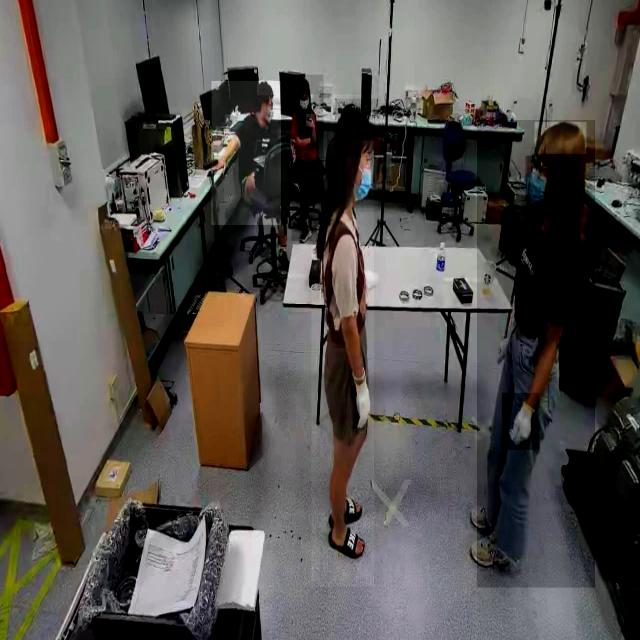face_mask: (346, 157, 378, 210), (526, 156, 552, 220), (296, 94, 312, 118)
hand_glove: (502, 393, 540, 451), (344, 366, 376, 429)
hand_noglove: (212, 156, 228, 176), (305, 114, 315, 128)
head_nohelmet: (334, 99, 376, 141), (534, 122, 586, 154), (256, 80, 274, 96), (297, 76, 311, 90)
person: (477, 120, 595, 588), (311, 94, 374, 588), (211, 81, 281, 226), (291, 75, 323, 242)
shoes: (468, 529, 514, 573), (469, 494, 504, 534)
